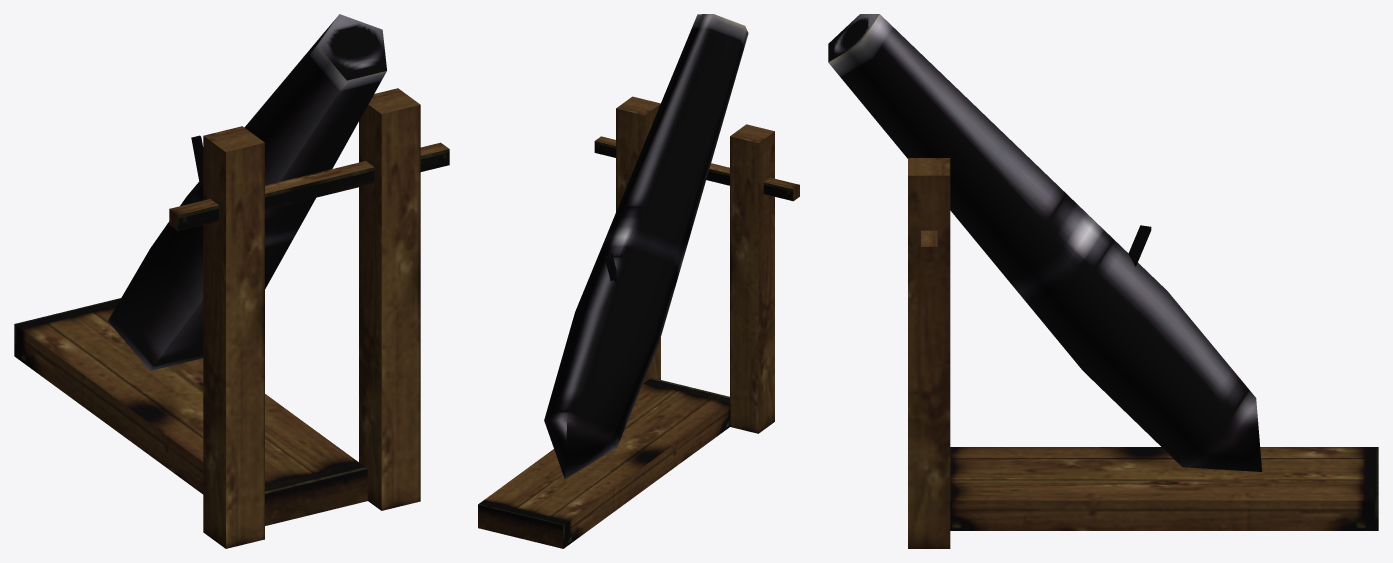
Rendered from Cannon03.glb.
3 views of the same model, side by side, from view 1: azimuth 30°, elevation 25°; view 2: azimuth 150°, elevation 25°; view 3: azimuth 270°, elevation 25° (orthographic). The views are drawn at different scales.
Visible parts, largest first — view 1: Cannon03; view 2: Cannon03; view 3: Cannon03.
Boxes of the visible parts, x1,y1,x2,y2 form: Cannon03: [14, 14, 449, 548]; Cannon03: [478, 14, 799, 548]; Cannon03: [828, 14, 1378, 548].
Size of the model in its own units: 0.7265 by 1.33 by 1.36.
1 material, 1 textured.
